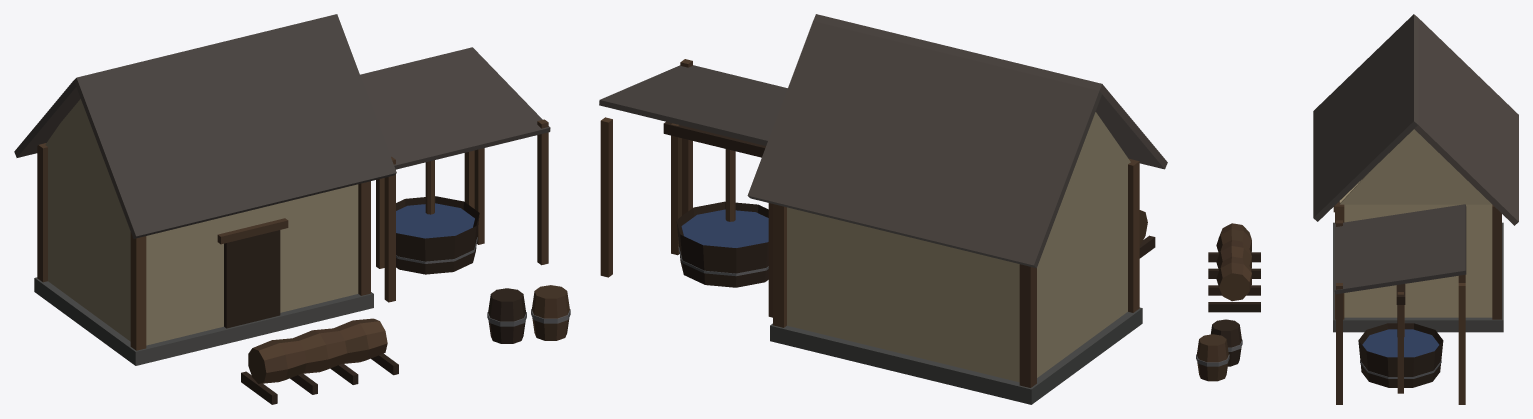
Rendered from walk_hallowed_winery.glb.
The picture shows the model from 3 angles, left to right: view 1: azimuth 30°, elevation 25°; view 2: azimuth 150°, elevation 25°; view 3: azimuth 270°, elevation 25°; orthographic projection. The views are drawn at different scales.
Parts seen in each view (by area): view 1: walk_hallowed_winery, walk_hallowed_winery_roof; view 2: walk_hallowed_winery, walk_hallowed_winery_roof; view 3: walk_hallowed_winery_roof, walk_hallowed_winery.
Boxes of the visible parts, <box> form: walk_hallowed_winery: <box>34,99,570,404</box>; walk_hallowed_winery_roof: <box>14,14,550,238</box>; walk_hallowed_winery: <box>600,59,1155,404</box>; walk_hallowed_winery_roof: <box>599,14,1167,268</box>; walk_hallowed_winery_roof: <box>1313,14,1518,294</box>; walk_hallowed_winery: <box>1196,129,1503,404</box>.
Size of what is drawn, in the model's own units: 9.5 by 5.45 by 7.38.
2 materials, 2 textured.
